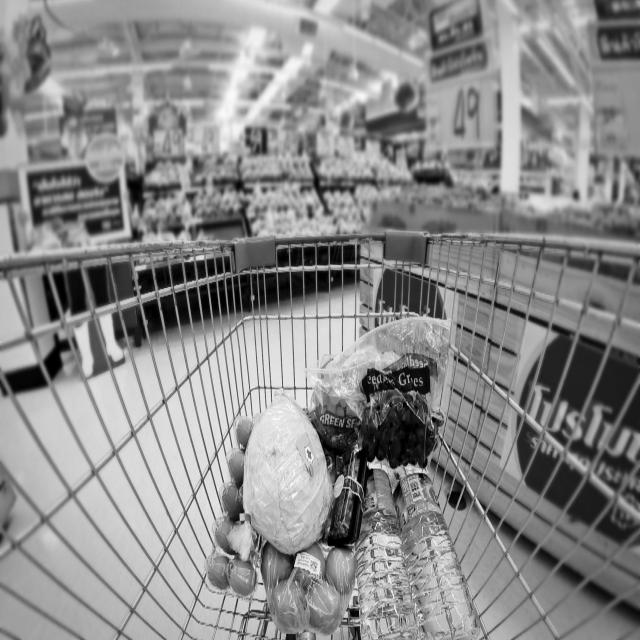apple: (260, 537, 359, 640)
bap cai: (245, 394, 334, 554)
egg: (201, 421, 260, 600)
grape: (362, 366, 437, 469)
